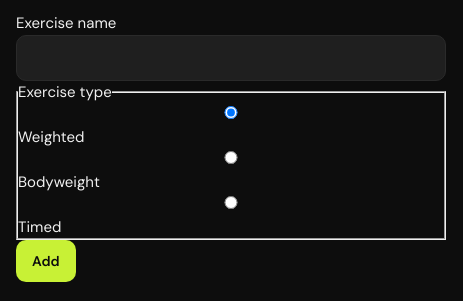
it: AddExerciseForm › clears the name input and resets the type after a successful add
The width and height of the screenshot is (463, 301).
Type "Squat" into the field labelled "Exercise name". click: (231, 58)
box: x1=16 y1=34 x2=446 y2=80
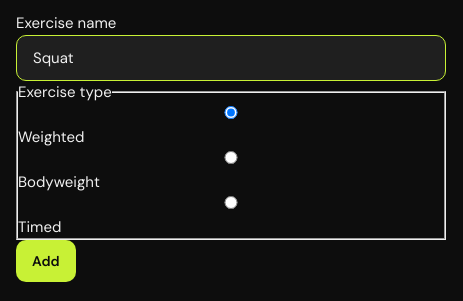
Click the radio button labelled "Timed". click: click(231, 202)
box: x1=18 y1=196 x2=444 y2=209
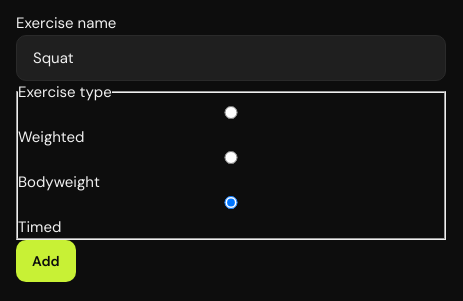
Click the button "Add". click: click(46, 261)
box: x1=16 y1=240 x2=76 y2=282
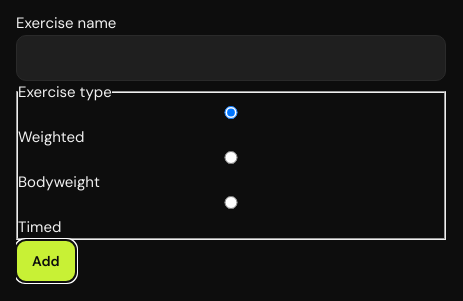
Expected: the field labelled "Exercise name" is empty, x1=16 y1=34 x2=446 y2=80
Expected: the radio button labelled "Weighted" is checked, x1=18 y1=106 x2=444 y2=119
